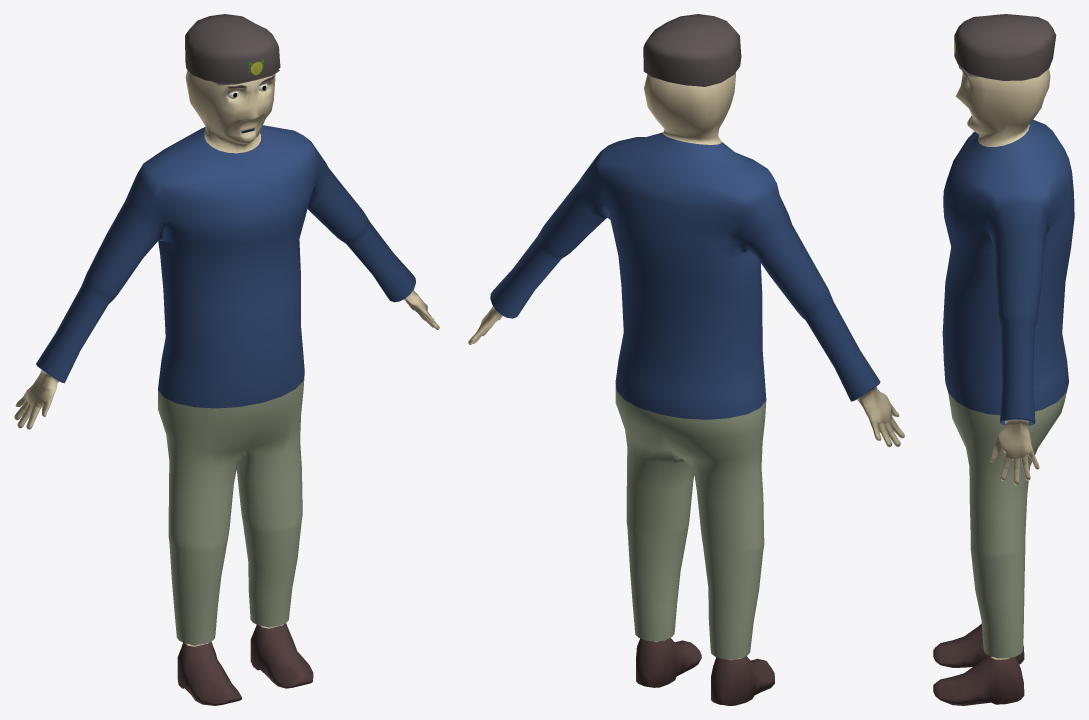
Rendered from Character_1_Still.fbx.
3 views of the same model, side by side, from view 1: azimuth 30°, elevation 25°; view 2: azimuth 150°, elevation 25°; view 3: azimuth 270°, elevation 25° (orthographic). The views are drawn at different scales.
Visible parts, largest first — view 1: Body_Geom, Hat_Geom; view 2: Body_Geom, Hat_Geom; view 3: Body_Geom, Hat_Geom.
Boxes of the visible parts, box(x1,y1,x2,y2) form: Body_Geom: box(14, 70, 439, 705); Hat_Geom: box(185, 14, 280, 85); Body_Geom: box(468, 72, 904, 705); Hat_Geom: box(643, 14, 741, 86); Body_Geom: box(933, 68, 1074, 705); Hat_Geom: box(954, 14, 1056, 80).
Bounding box in the file's own units: 1.2 × 1.78 × 0.3481.
Materials: 3 (3 with a texture image).
